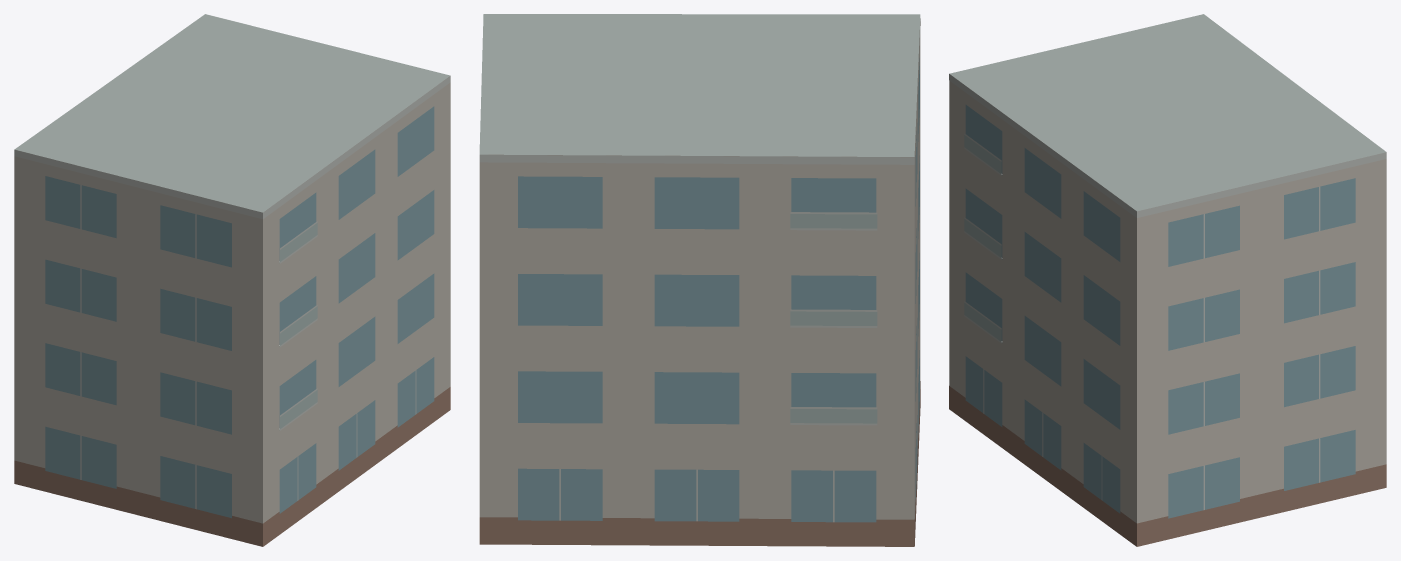
The model's file is survey-upis-32683269.glb.
3 renders of one model, left to right at view 1: azimuth 30°, elevation 25°; view 2: azimuth 150°, elevation 25°; view 3: azimuth 270°, elevation 25°, orthographic. The views are drawn at different scales.
Parts seen in each view (by area): view 1: survey-upis-32683269.tmp; view 2: survey-upis-32683269.tmp; view 3: survey-upis-32683269.tmp.
Part boxes in pixels (<box>): survey-upis-32683269.tmp: <box>14,14,450,546</box>; survey-upis-32683269.tmp: <box>479,14,920,546</box>; survey-upis-32683269.tmp: <box>949,14,1386,546</box>.
Size of the model in its own units: 15.4 by 12.2 by 14.43.
